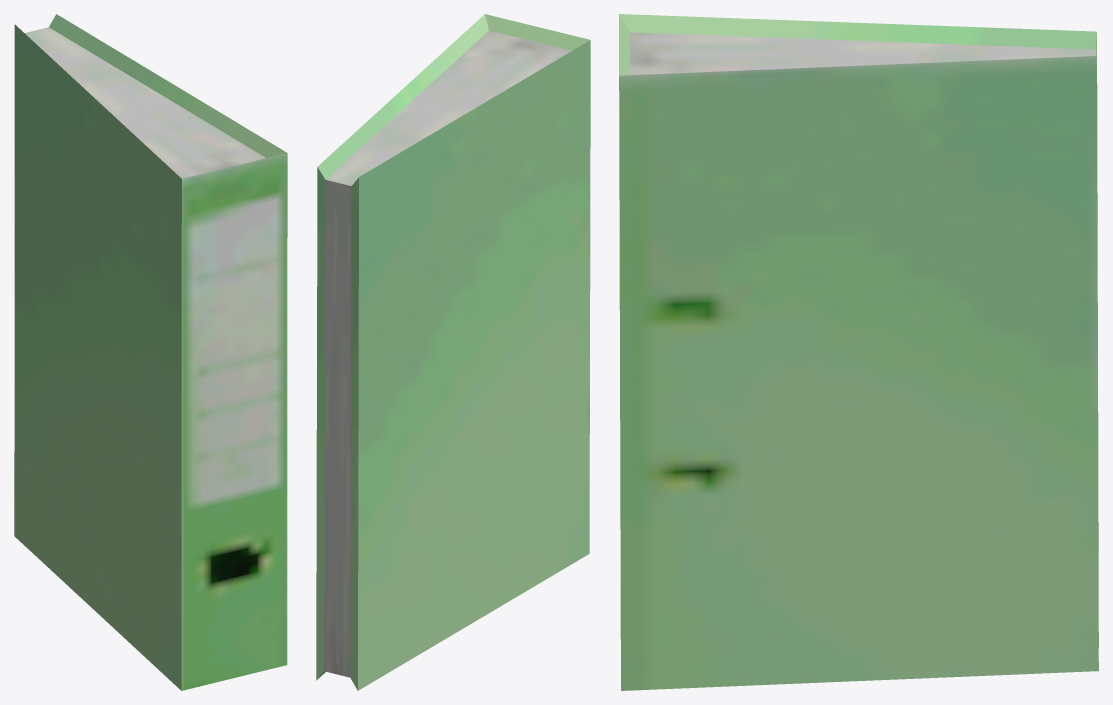
Rendered from file_binder_alt2.obj.
The picture shows the model from 3 angles, left to right: view 1: azimuth 30°, elevation 25°; view 2: azimuth 150°, elevation 25°; view 3: azimuth 270°, elevation 25°; orthographic projection. The views are drawn at different scales.
Parts seen in each view (by area): view 1: file_binder_alt2; view 2: file_binder_alt2; view 3: file_binder_alt2.
Part boxes in pixels (x1=…): file_binder_alt2: x1=14, y1=14, x2=287, y2=690; file_binder_alt2: x1=316, y1=14, x2=590, y2=690; file_binder_alt2: x1=619, y1=14, x2=1098, y2=690.
Size of the model in its own units: 0.0915 by 0.4233 by 0.2987.
